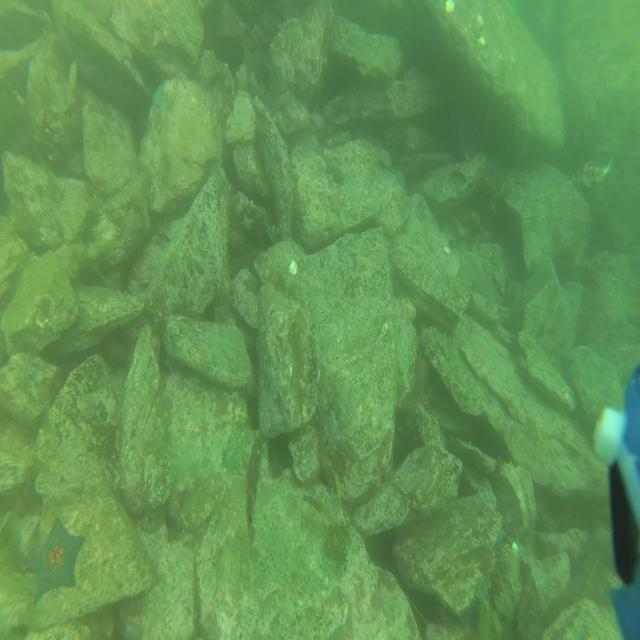holothurian: (421, 326, 454, 359)
starfish: (27, 512, 86, 602), (325, 187, 346, 219), (112, 36, 135, 65), (150, 82, 166, 115)
